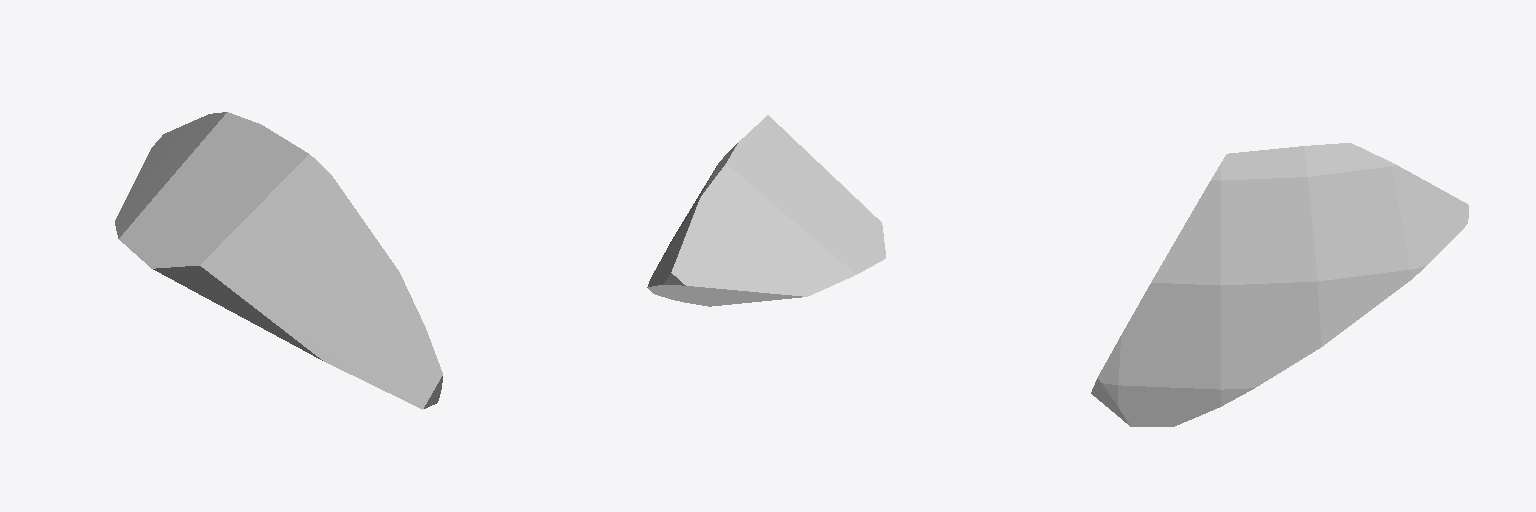
File: Sphere_Cell_Fracture28.obj
3 views of the same model, side by side, from view 1: azimuth 30°, elevation 25°; view 2: azimuth 150°, elevation 25°; view 3: azimuth 270°, elevation 25° (orthographic).
Bounding box in the file's own units: 0.4868 × 0.4875 × 0.7055.